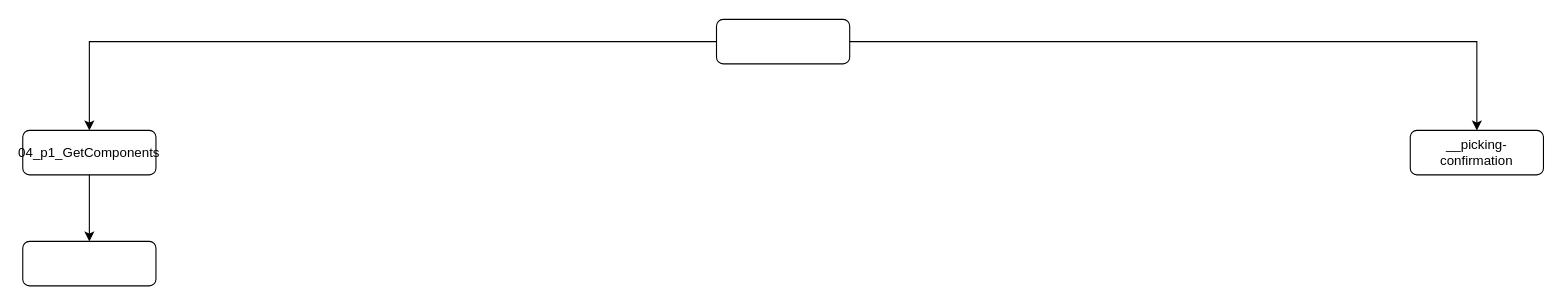
Some shapes in this 1563 by 305 pixel diagram are drawn without their labels. Here are the shapes that lost their labels. From the top down, the centre of each, then its label:
At point (782, 41): "Copy of 02_p2_ProcessTote".
At point (89, 263): "00_GetShoeCare".
